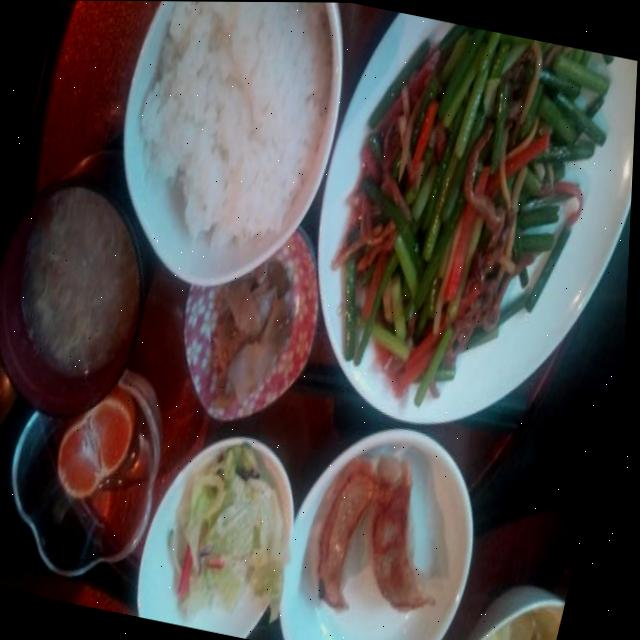带馅早点: (288, 444, 487, 640)
汤锅炖物: (0, 171, 175, 396)
牛肉菜式: (303, 9, 634, 426)
米饭主食: (108, 1, 354, 265)
蔬菜料理: (151, 431, 325, 640)
